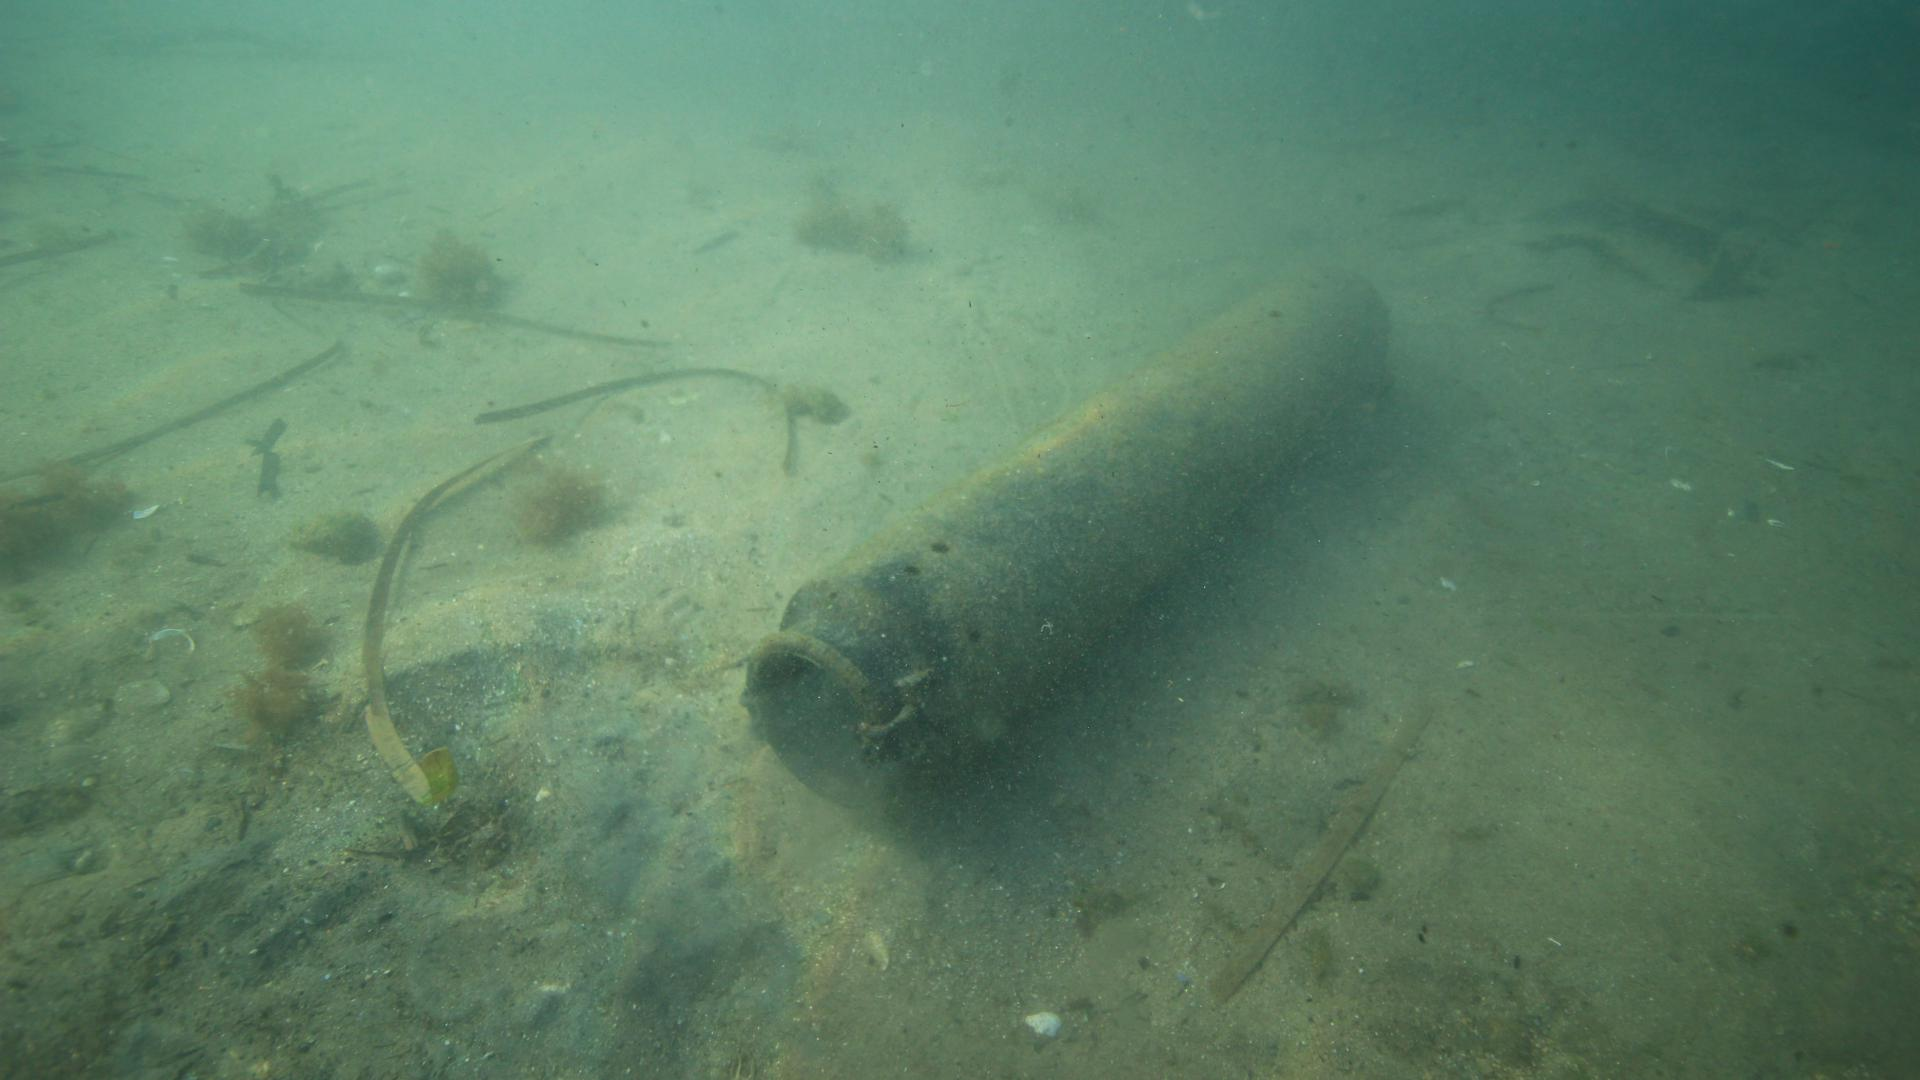eel fish trap: (738, 266, 1399, 818)
